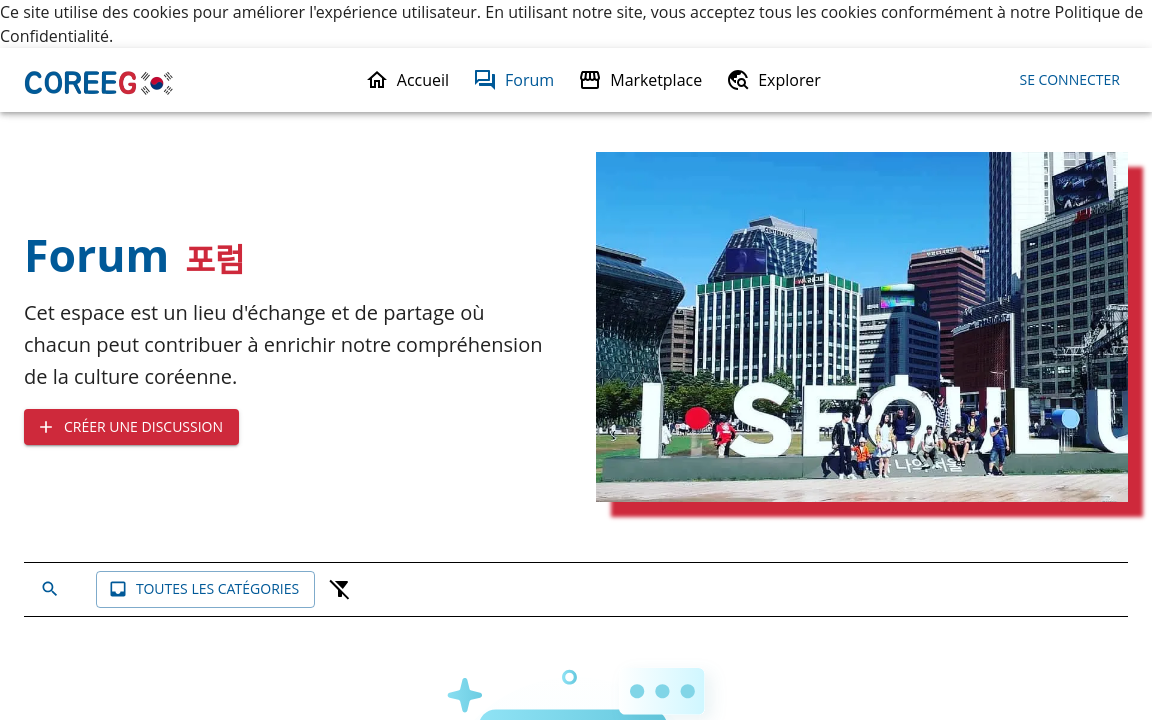
Test: test search filter › should verify the search dialog opens on button click, and search query is fonctinal
Step 1. Click the button with test id "button-search" → coordinates (56, 590), box x1=24 y1=571 x2=88 y2=608
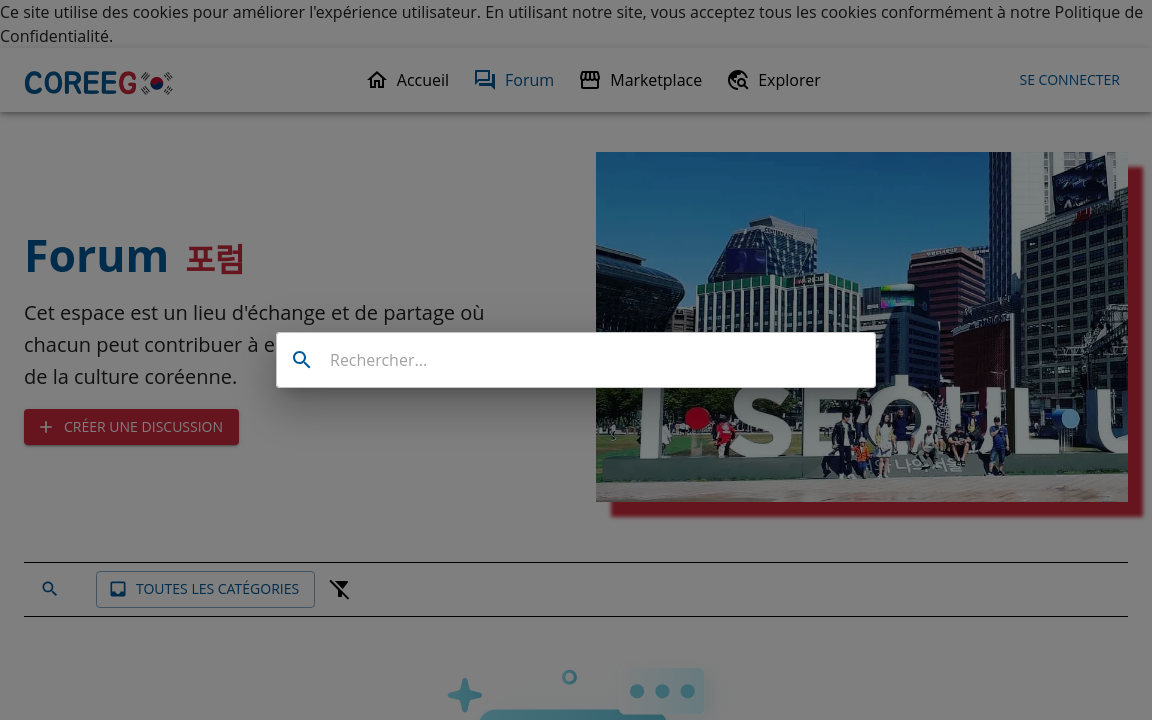
Now the element with test id "dialog-search" is shown
Now the element with test id "input-search" is shown
Step 2. Type "Votre recherche ici" into the element with test id "input-search" → coordinates (576, 360), box x1=276 y1=332 x2=876 y2=388
Then press Enter
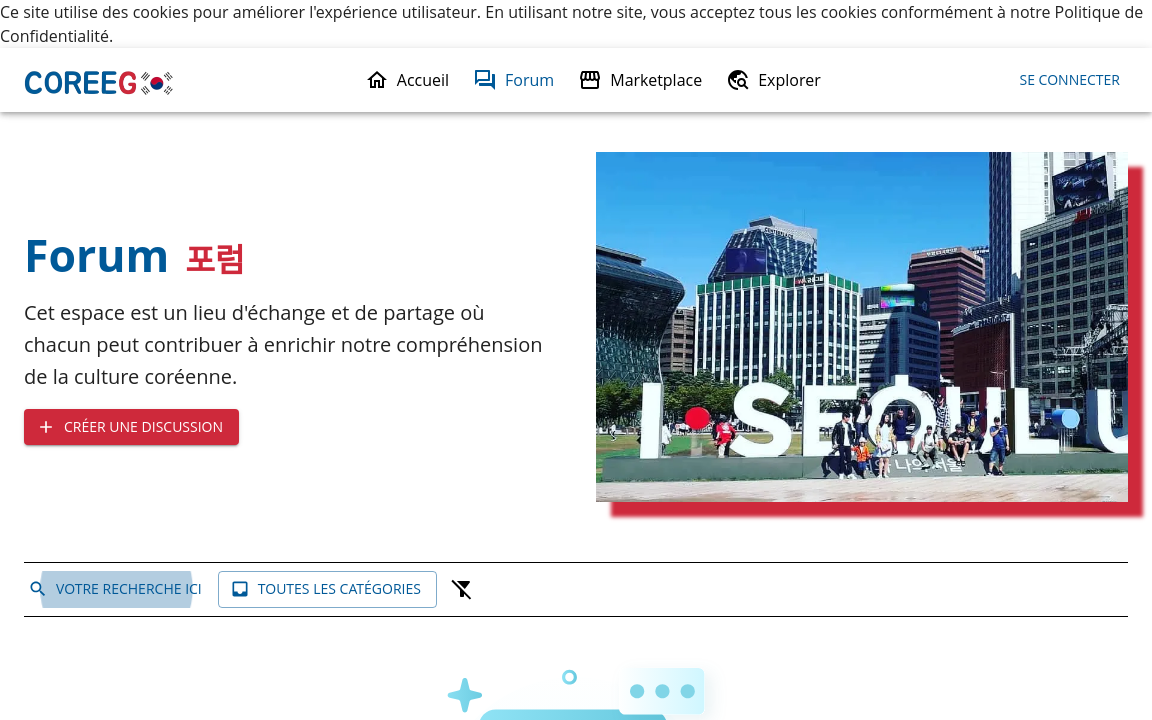
Now the button with test id "button-search" reads "Votre recherche ici", box x1=24 y1=571 x2=210 y2=608
